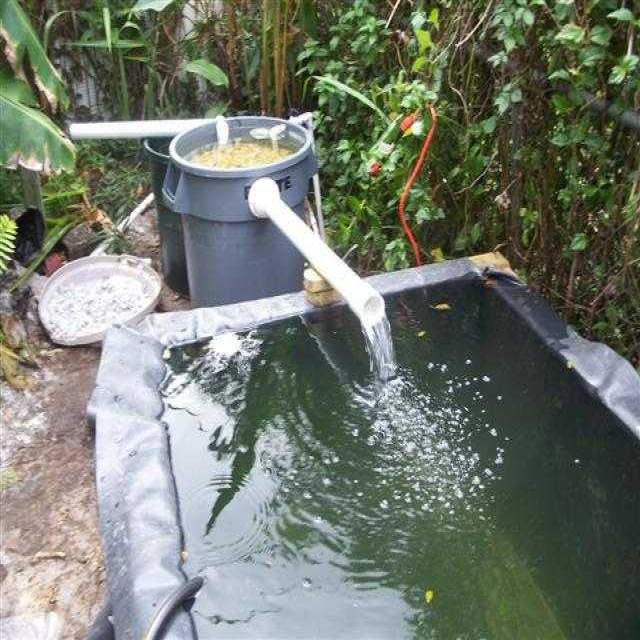Ponds: (94, 251, 640, 640)
